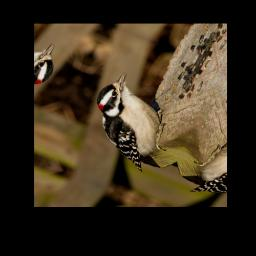Woodpecker: (72, 67, 195, 178)
